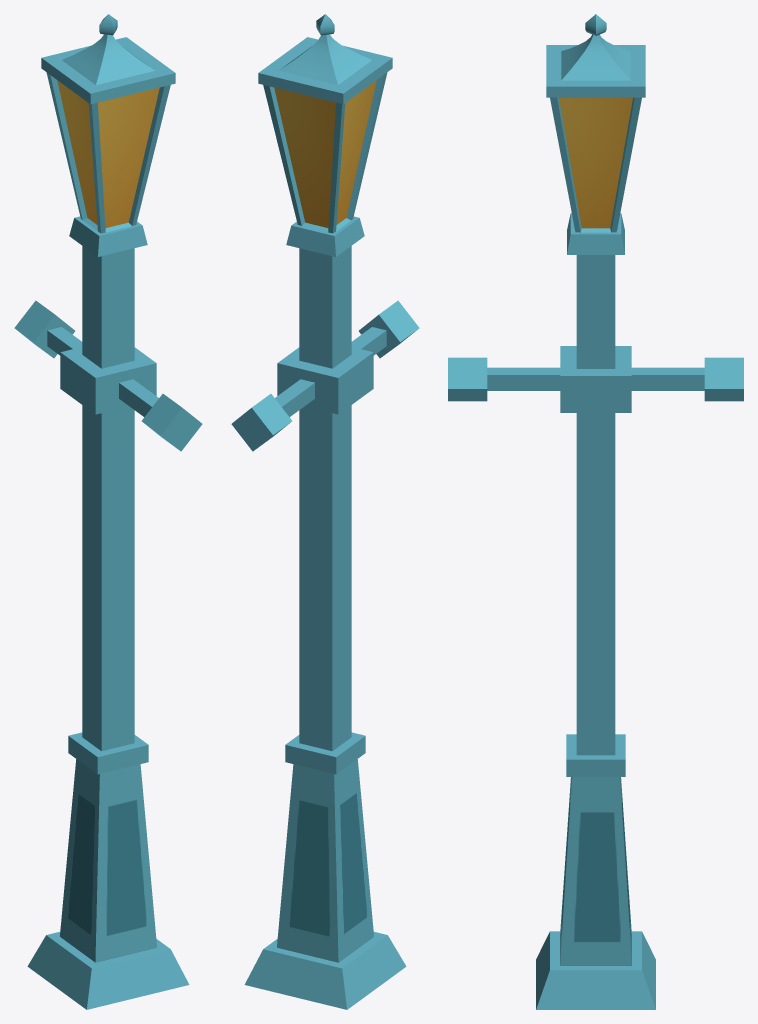
The model's file is lamppost01.fbx.
3 renders of one model, left to right at view 1: azimuth 30°, elevation 25°; view 2: azimuth 150°, elevation 25°; view 3: azimuth 270°, elevation 25°, orthographic.
Visible parts, largest first — view 1: lamppost01; view 2: lamppost01; view 3: lamppost01.
Boxes of the visible parts, x1=… form: lamppost01: x1=14, y1=14, x2=202, y2=1009; lamppost01: x1=231, y1=14, x2=419, y2=1009; lamppost01: x1=448, y1=14, x2=743, y2=1009.
Size of the model in its own units: 63.76 by 570 by 158.
